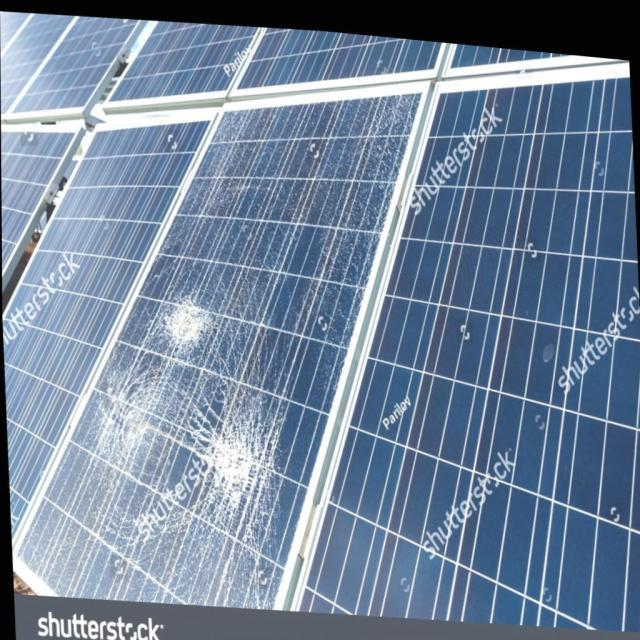cracked: (34, 91, 428, 604)
